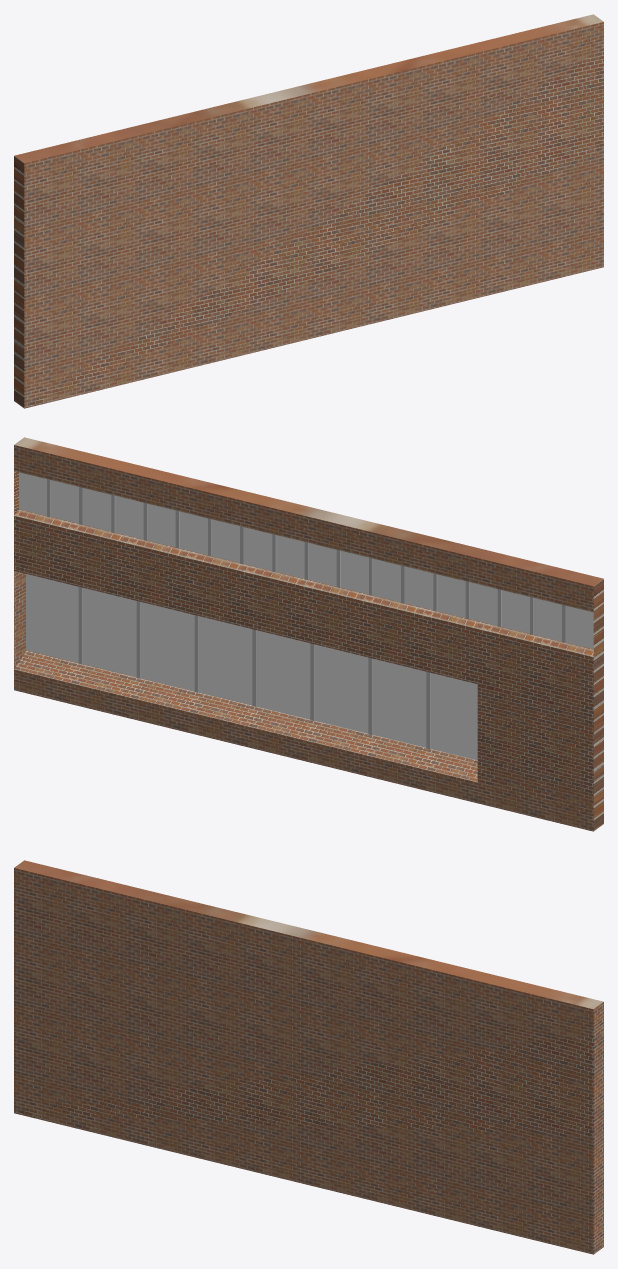
The model's file is wall3.fbx.
3 renders of one model, top to bottom at view 1: azimuth 30°, elevation 25°; view 2: azimuth 150°, elevation 25°; view 3: azimuth 330°, elevation 25°, orthographic.
Visible parts, largest first — view 1: polySurface50; view 2: polySurface50, polySurface82, polySurface81; view 3: polySurface50.
Boxes of the visible parts, bbox=[...] form: polySurface50: bbox=[14, 14, 603, 408]; polySurface50: bbox=[14, 437, 603, 831]; polySurface82: bbox=[19, 472, 593, 760]; polySurface81: bbox=[47, 479, 565, 749]; polySurface50: bbox=[14, 860, 603, 1254].
Bounding box in the file's own units: 29 × 11.73 × 0.9014.
